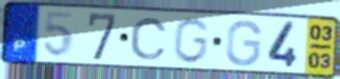4: (266, 18, 303, 71)
5: (42, 10, 76, 60)
7: (86, 11, 117, 62)
C: (129, 16, 170, 61)
G: (170, 16, 212, 66), (224, 18, 263, 68)
